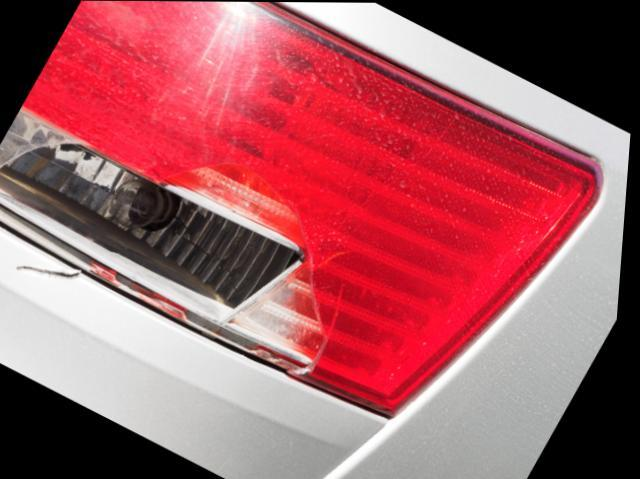crack: (19, 265, 84, 278)
lamp broken: (0, 0, 607, 418)
